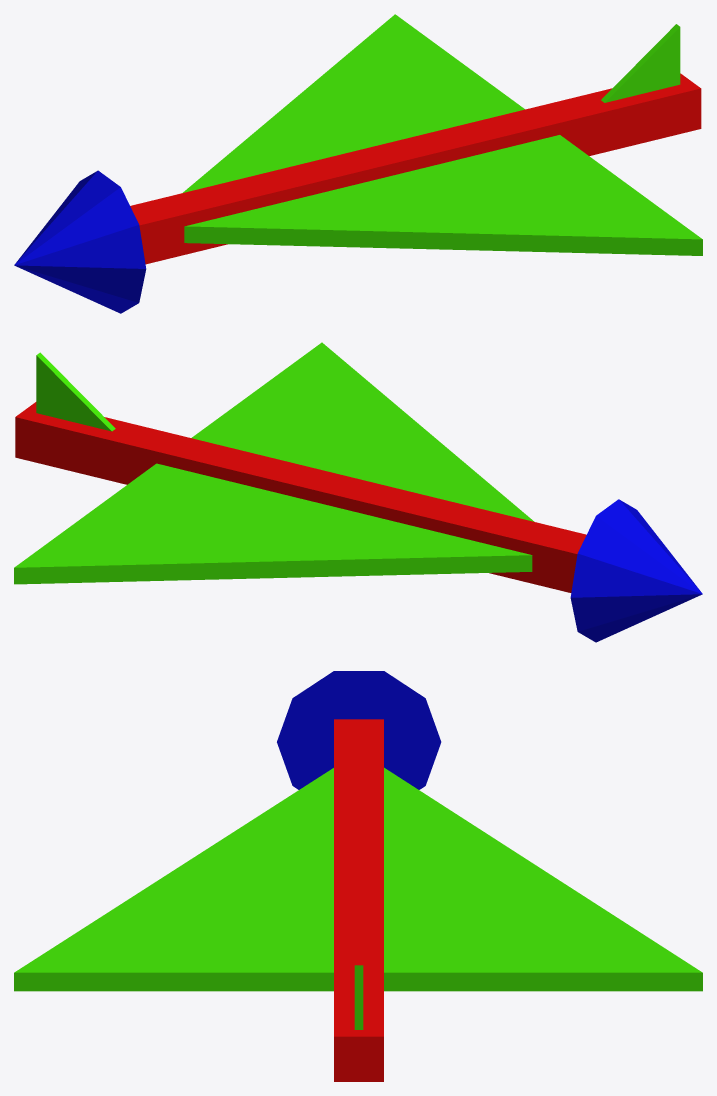
Rendered from mpu6050_teapot.glb.
The picture shows the model from 3 angles, top to bottom: view 1: azimuth 30°, elevation 25°; view 2: azimuth 150°, elevation 25°; view 3: azimuth 270°, elevation 25°; orthographic projection. The views are drawn at different scales.
Visible parts, largest first — view 1: MPU6050_teapot; view 2: MPU6050_teapot; view 3: MPU6050_teapot.
Boxes of the visible parts, bbox=[...] form: MPU6050_teapot: bbox=[14, 14, 702, 313]; MPU6050_teapot: bbox=[14, 342, 702, 642]; MPU6050_teapot: bbox=[14, 671, 702, 1081].
Size of the model in its own units: 17.47 by 3.49 by 13.77.
